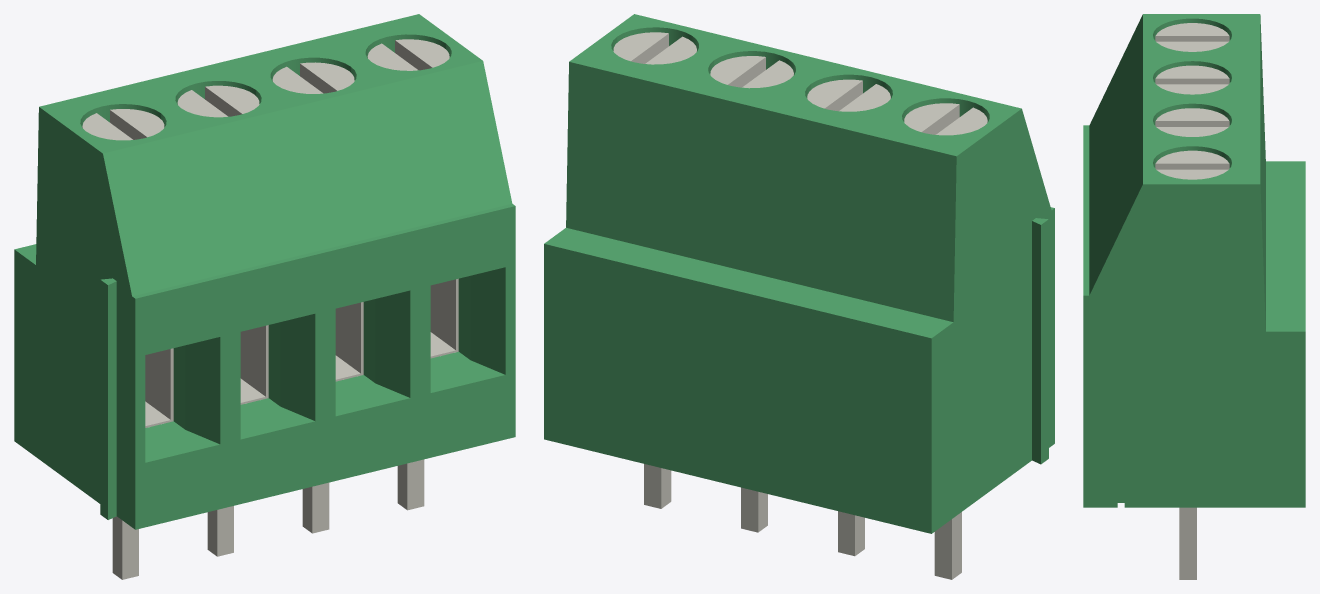
Rendered from kc-terminalblock_phoenix_mkds-3-4-5.08_1x04_p5.08mm_horizontal.glb.
The picture shows the model from 3 angles, left to right: view 1: azimuth 30°, elevation 25°; view 2: azimuth 150°, elevation 25°; view 3: azimuth 270°, elevation 25°; orthographic projection. The views are drawn at different scales.
Parts seen in each view (by area): view 1: 0.08333333333333333_0.4166666666666667_0.16666666666666666_0, 0.6666666666666666_0.6666666666666666_0.5833333333333334_0.8; view 2: 0.08333333333333333_0.4166666666666667_0.16666666666666666_0, 0.6666666666666666_0.6666666666666666_0.5833333333333334_0.8; view 3: 0.08333333333333333_0.4166666666666667_0.16666666666666666_0, 0.6666666666666666_0.6666666666666666_0.5833333333333334_0.8.
Boxes of the visible parts, box(x1,y1,x2,y2) form: 0.08333333333333333_0.4166666666666667_0.16666666666666666_0: box(14, 14, 515, 529); 0.6666666666666666_0.6666666666666666_0.5833333333333334_0.8: box(82, 39, 458, 579); 0.08333333333333333_0.4166666666666667_0.16666666666666666_0: box(544, 14, 1054, 533); 0.6666666666666666_0.6666666666666666_0.5833333333333334_0.8: box(613, 32, 987, 579); 0.08333333333333333_0.4166666666666667_0.16666666666666666_0: box(1083, 14, 1305, 507); 0.6666666666666666_0.6666666666666666_0.5833333333333334_0.8: box(1155, 23, 1229, 579).
Bounding box in the file's own units: 2.09 × 2.3 × 1.12.
